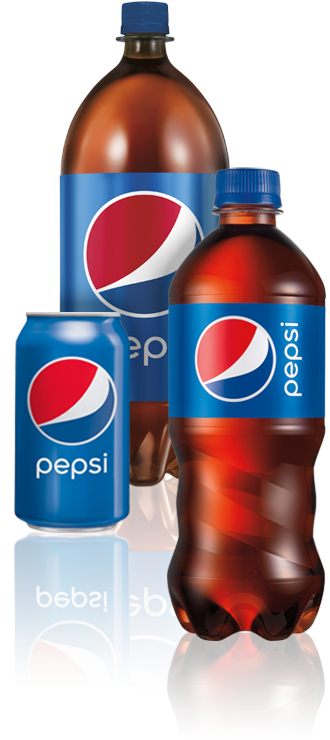pepsi: (79, 186, 204, 319), (84, 186, 204, 319), (25, 351, 115, 443), (25, 355, 115, 443), (192, 313, 274, 402), (26, 615, 116, 689)
